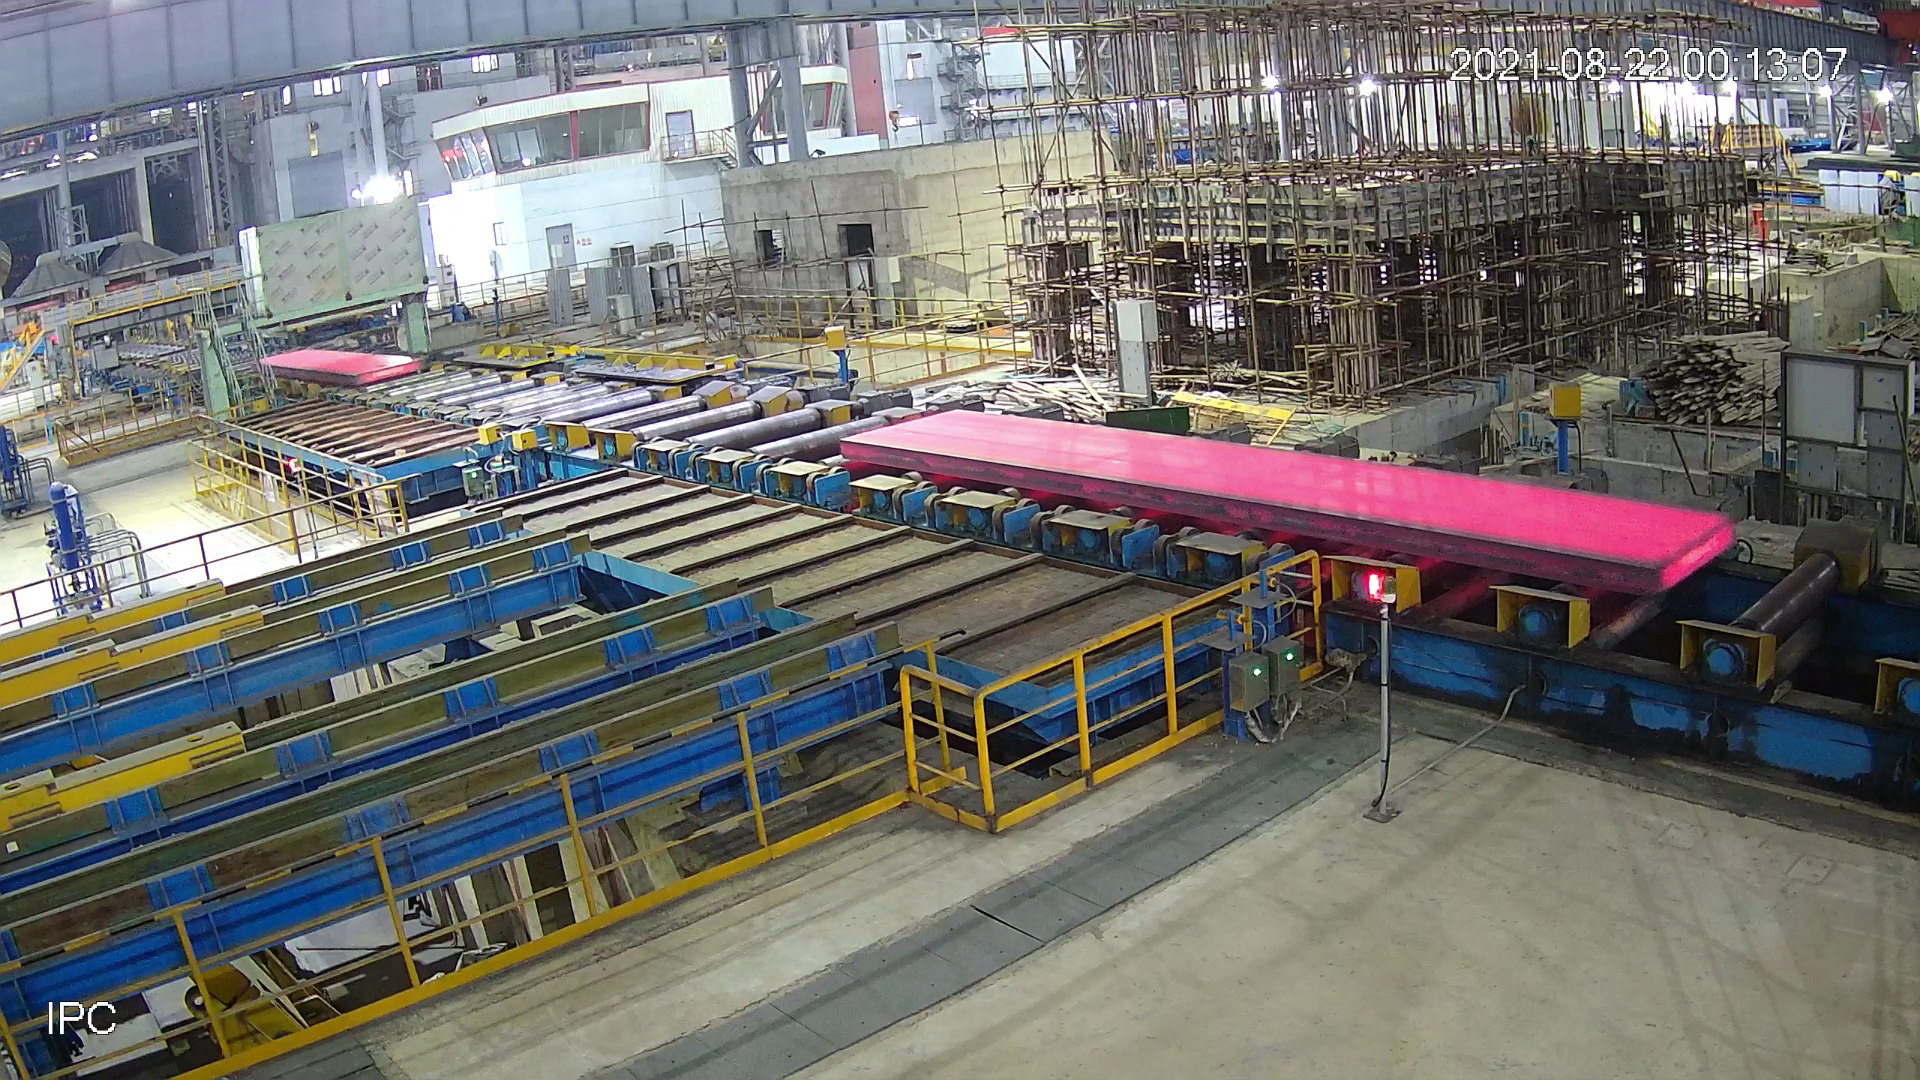slab: (836, 404, 1735, 601), (255, 344, 430, 394)
